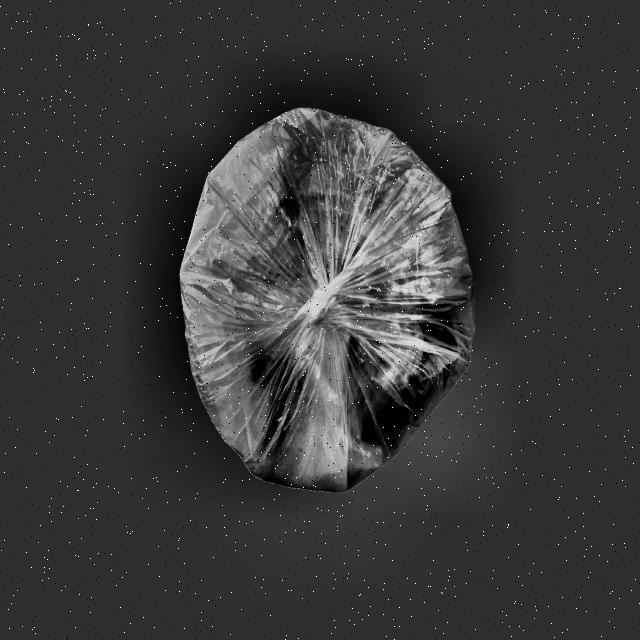Trashbag: (172, 121, 496, 490)
